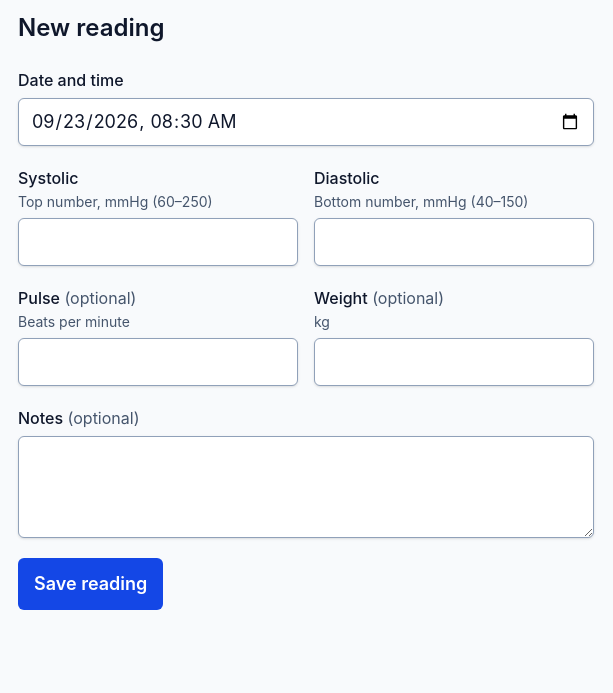
Scenario: NewReading › valid submit › clears the confirmation once the user edits the form again
In the field labelled "Systolic": (158, 242) [18,218,298,266], type "118"
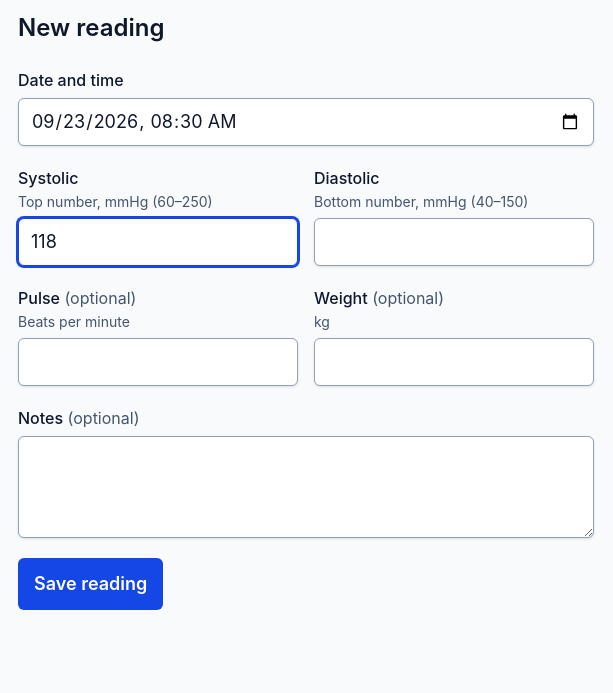
In the field labelled "Diastolic": (454, 242) [314,218,594,266], type "76"
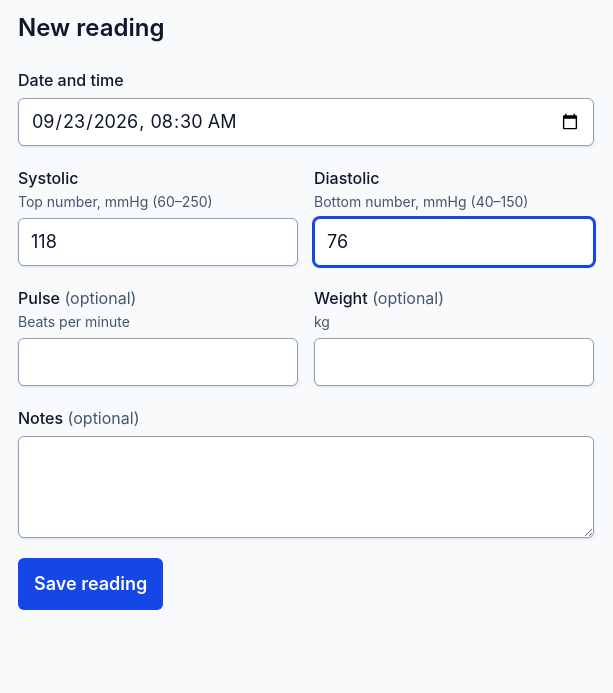
Click the button "Save reading": (91, 584) [18,558,163,610]
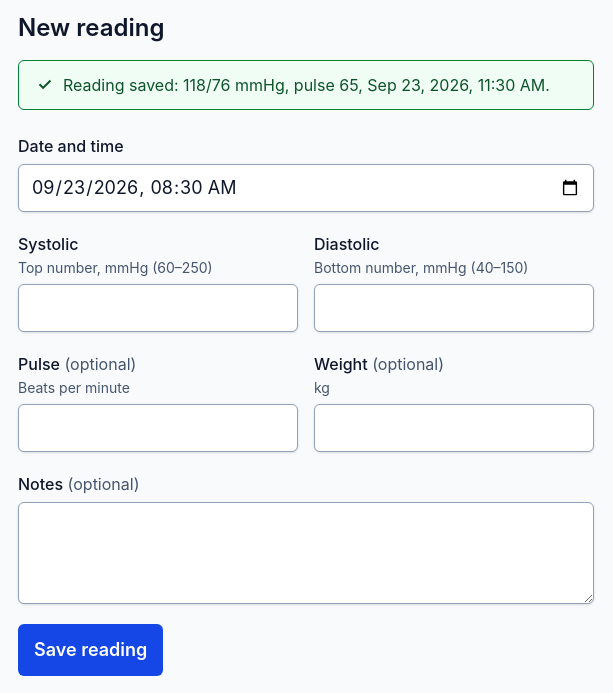
Check: the text "Reading saved" is shown, box [63,75,550,95]
In the field labelled "Systolic": (158, 308) [18,284,298,332], type "1"
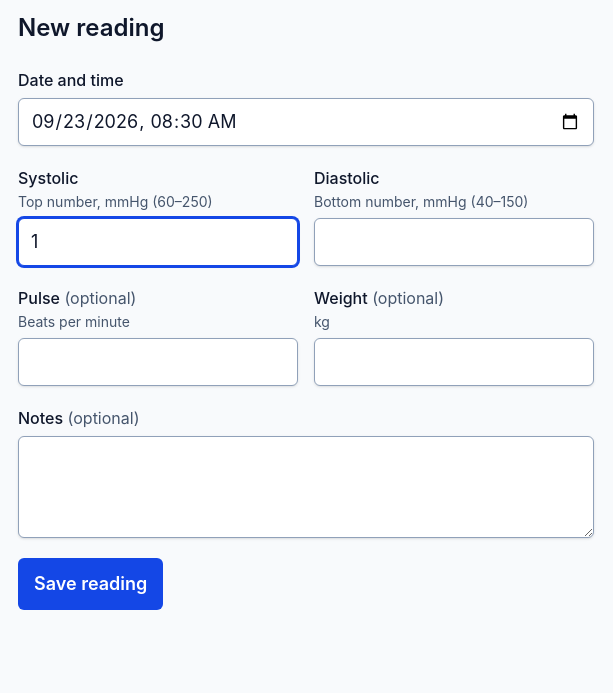
Check: the text "Reading saved" is gone
